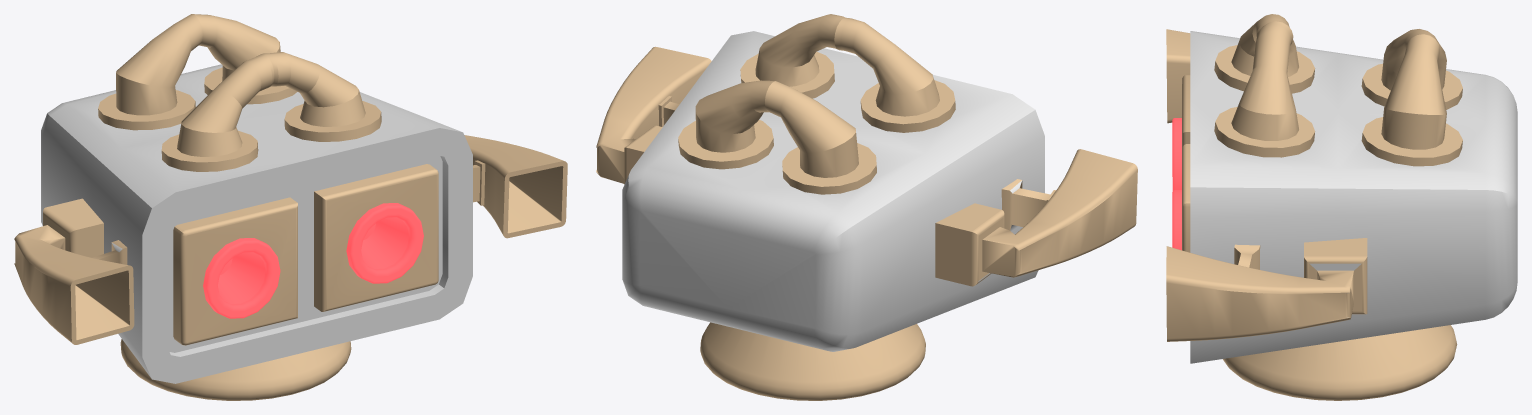
The model's file is FlyingRobotEnemy.fbx.
The picture shows the model from 3 angles, left to right: view 1: azimuth 30°, elevation 25°; view 2: azimuth 150°, elevation 25°; view 3: azimuth 270°, elevation 25°; orthographic projection. The views are drawn at different scales.
Parts seen in each view (by area): view 1: FlyingRobotEnemy; view 2: FlyingRobotEnemy; view 3: FlyingRobotEnemy.
Boxes of the visible parts, x1,y1,x2,y2 form: FlyingRobotEnemy: (14, 14, 567, 400); FlyingRobotEnemy: (596, 14, 1137, 400); FlyingRobotEnemy: (1166, 14, 1517, 400).
Bounding box in the file's own units: 283 × 176 × 168.
